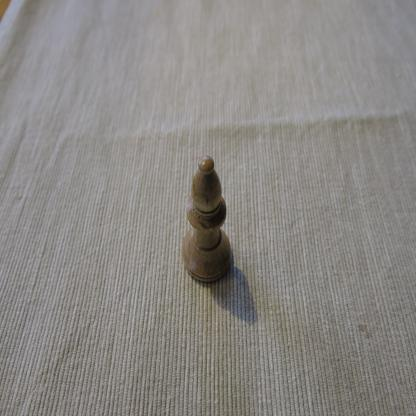white-bishop: (182, 155, 232, 285)
